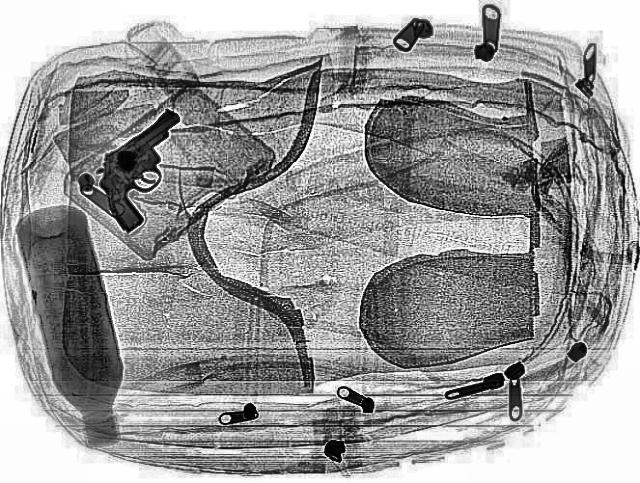Gun: (70, 102, 206, 232)
